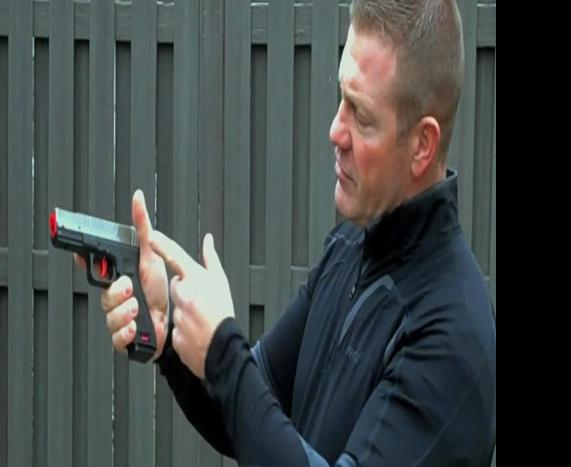pistol: (46, 203, 163, 363)
